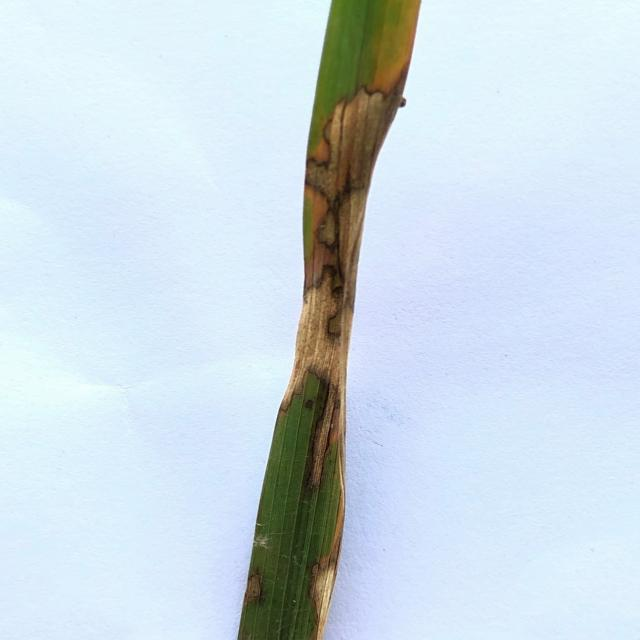leaf blight: (281, 86, 407, 401), (296, 372, 343, 504), (310, 508, 345, 640), (238, 574, 264, 604)
